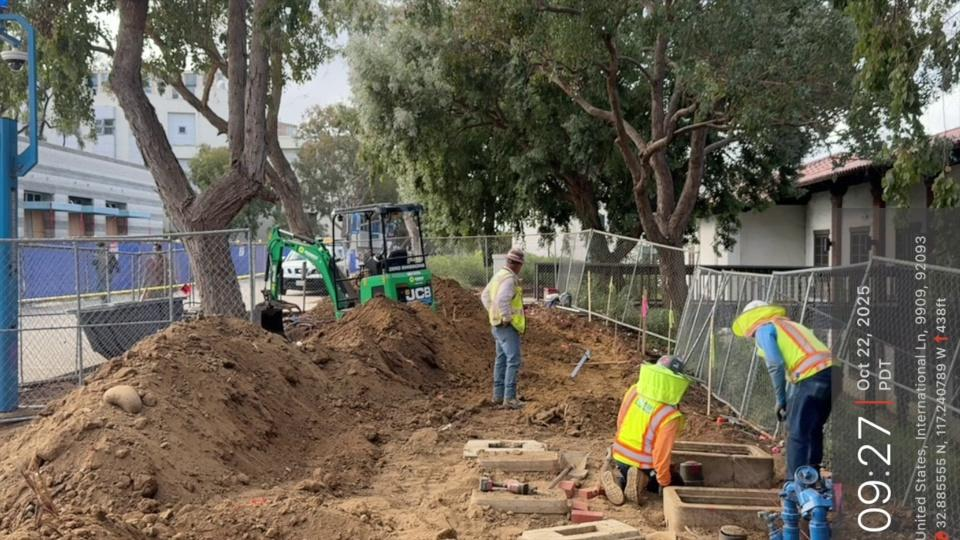Exacavator: (252, 200, 436, 337)
